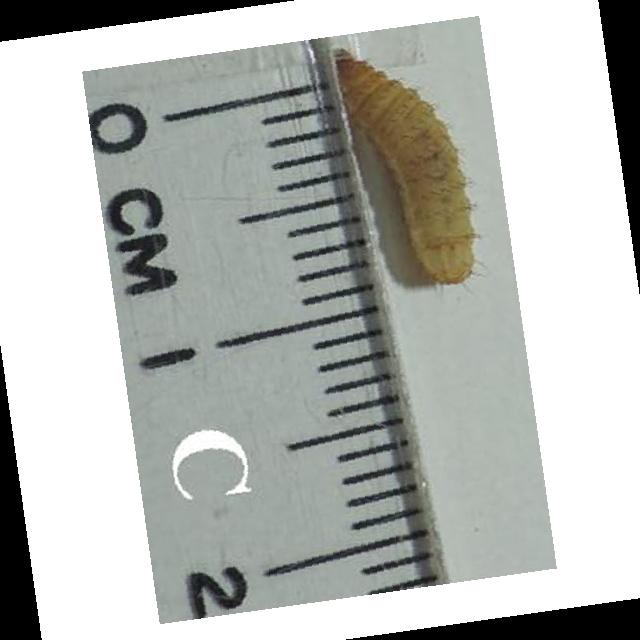Maggot: (334, 45, 483, 295)
